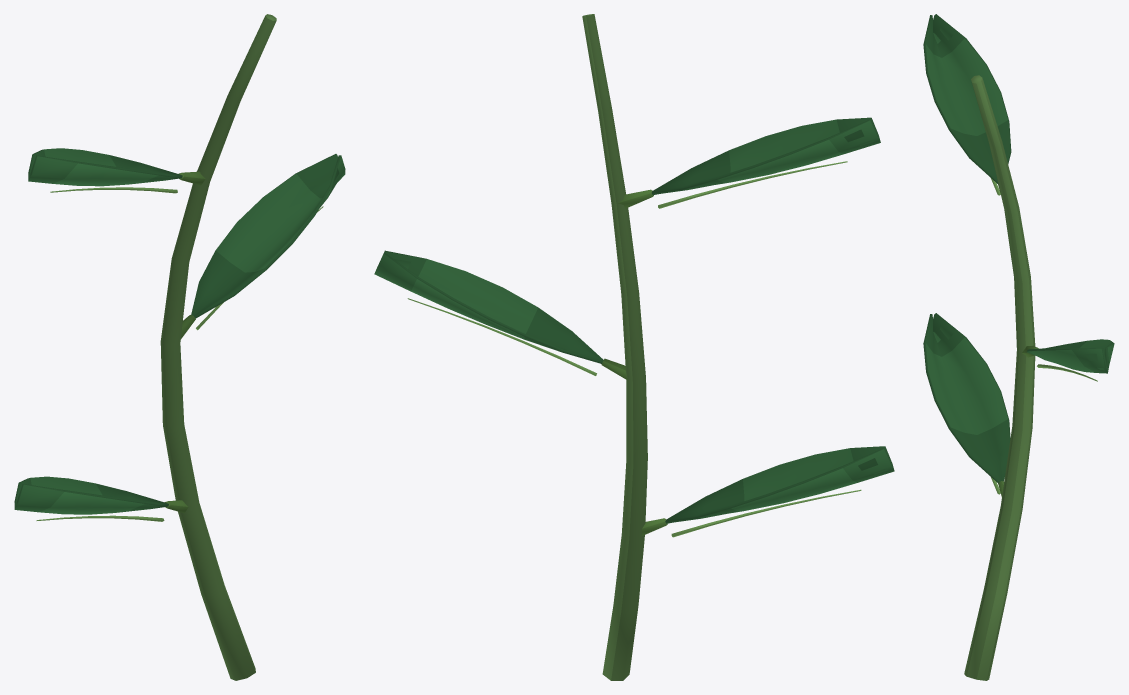
The model's file is garden-rose-bud-stem-1.glb.
3 views of the same model, side by side, from view 1: azimuth 30°, elevation 25°; view 2: azimuth 150°, elevation 25°; view 3: azimuth 270°, elevation 25° (orthographic). The views are drawn at different scales.
Parts seen in each view (by area): view 1: rose-bud-stem-1; view 2: rose-bud-stem-1; view 3: rose-bud-stem-1.
Part boxes in pixels (box(x1,y1,x2,y2)): rose-bud-stem-1: box(14, 14, 345, 680); rose-bud-stem-1: box(374, 14, 894, 680); rose-bud-stem-1: box(923, 14, 1114, 680).
Bounding box in the file's own units: 0.2456 × 0.3619 × 0.1018.
